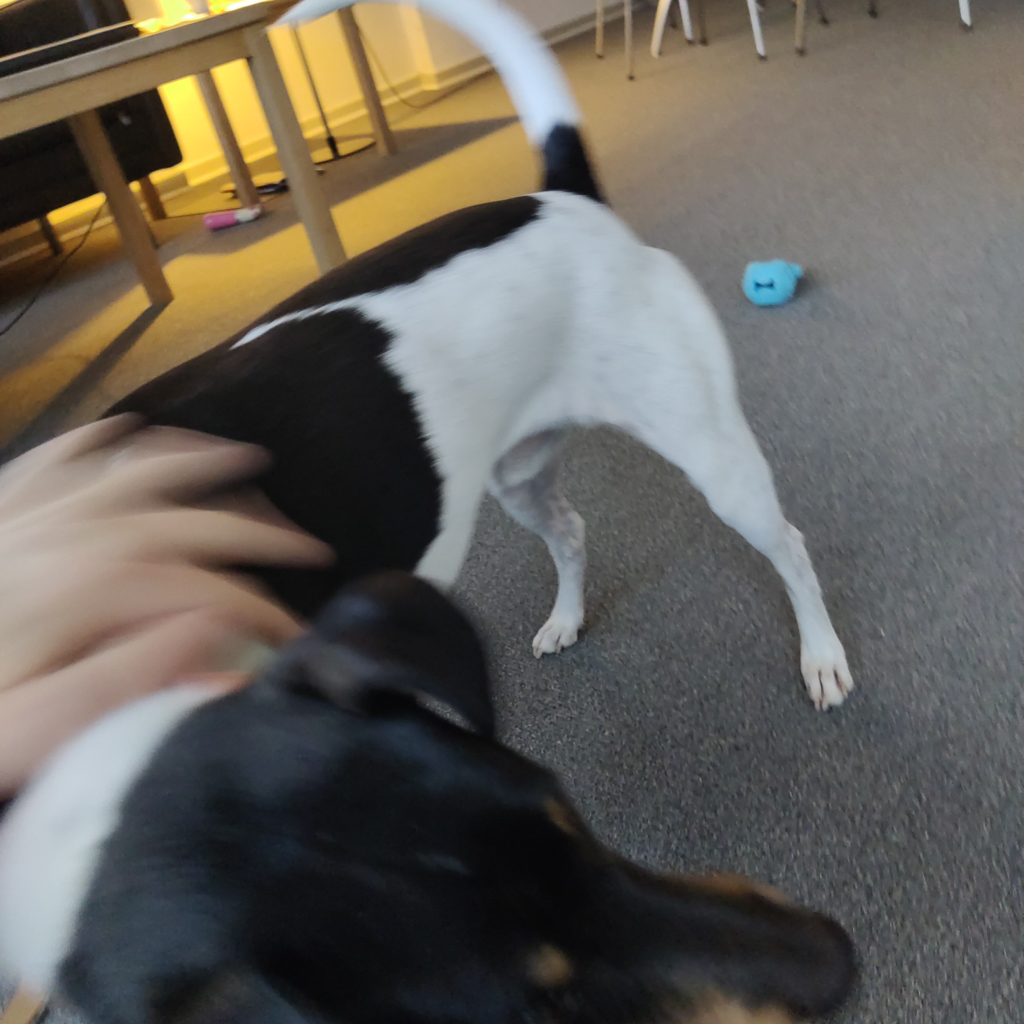Dog: (0, 0, 907, 1024)
Humanoid: (0, 382, 386, 843)
